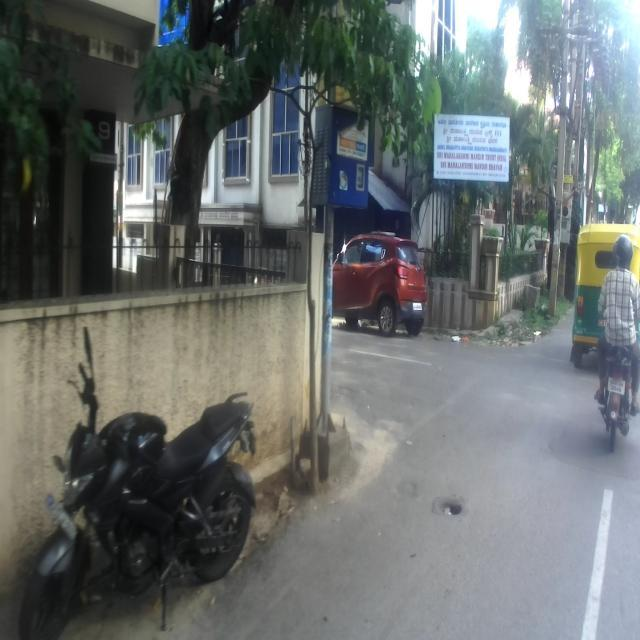Pothole: (412, 460, 497, 567)
